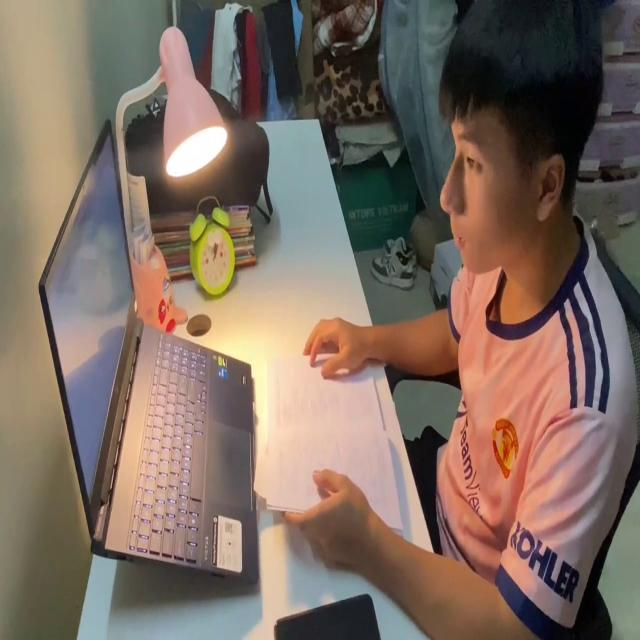book: (254, 329, 404, 540)
laptop: (36, 114, 262, 590)
phone: (268, 588, 382, 640)
student: (275, 0, 640, 640)
